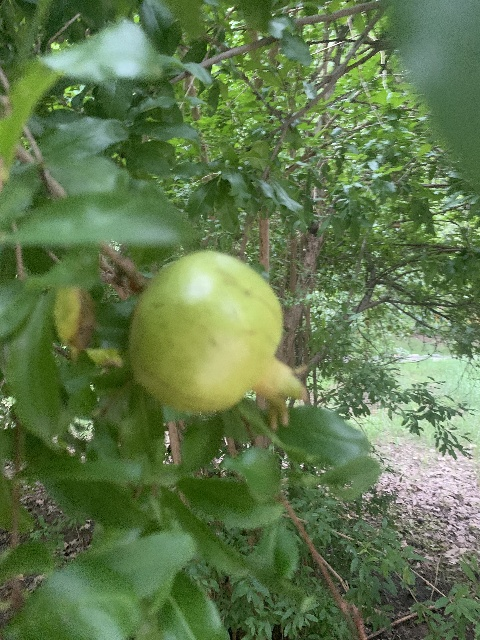mid-growth: (129, 250, 310, 430)
